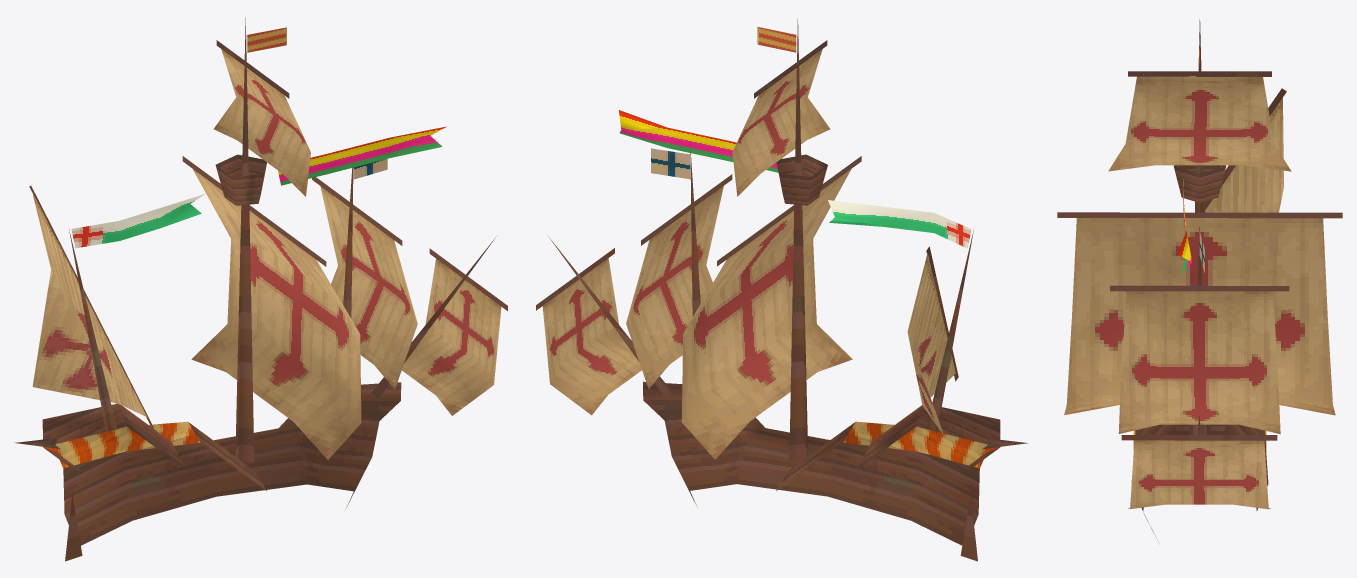
The model's file is ps2_save-icons_neoatlasiii.glb.
3 renders of one model, left to right at view 1: azimuth 30°, elevation 25°; view 2: azimuth 150°, elevation 25°; view 3: azimuth 270°, elevation 25°, orthographic.
Visible parts, largest first — view 1: ship.ico; view 2: ship.ico; view 3: ship.ico.
Boxes of the visible parts, x1,y1,x2,y2 form: ship.ico: (15, 17, 507, 561); ship.ico: (536, 19, 1028, 561); ship.ico: (1057, 19, 1342, 542).
Bounding box in the file's own units: 4.66 × 4.64 × 2.41.
1 material, 1 textured.
